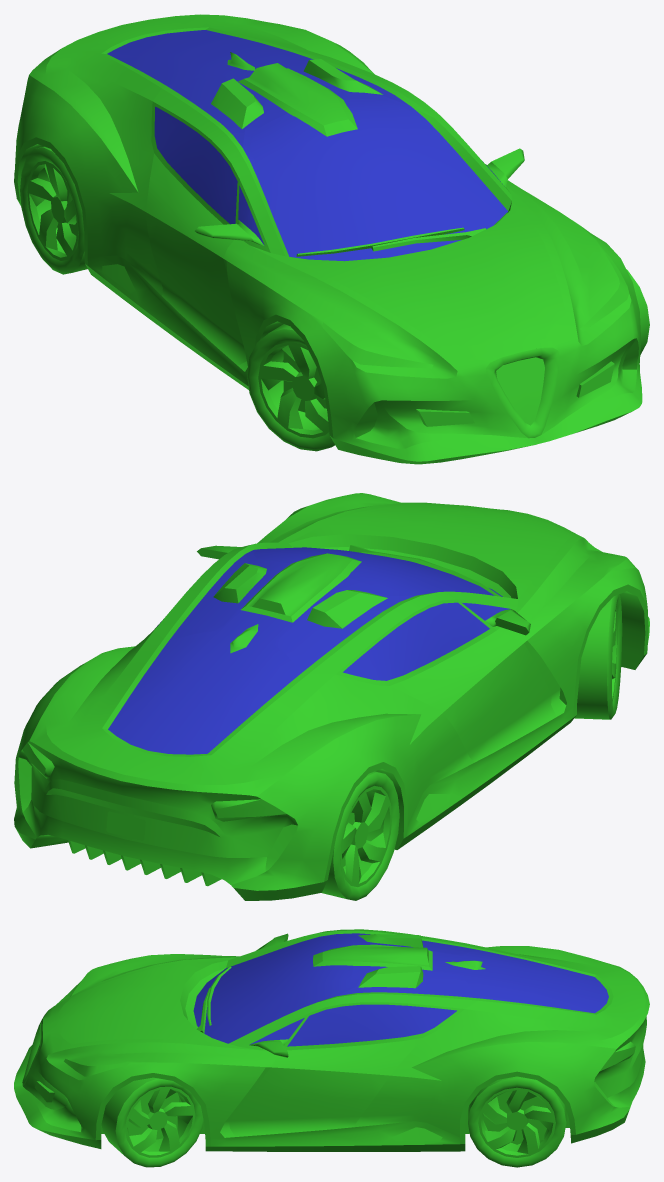
The model's file is ZOC_POL1.obj.
The picture shows the model from 3 angles, top to bottom: view 1: azimuth 30°, elevation 25°; view 2: azimuth 150°, elevation 25°; view 3: azimuth 270°, elevation 25°; orthographic projection. The views are drawn at different scales.
Visible parts, largest first — view 1: ZOC_POL1_BASE, ZOC_POL1_STEKLO, ZOC_POL1_MIGAL, ZOC_POL1_WFR, ZOC_POL1_WBR; view 2: ZOC_POL1_BASE, ZOC_POL1_STEKLO, ZOC_POL1_MIGAL, ZOC_POL1_WBR, ZOC_POL1_WFR; view 3: ZOC_POL1_BASE, ZOC_POL1_STEKLO, ZOC_POL1_WBL, ZOC_POL1_WFL, ZOC_POL1_MIGAL.
Boxes of the visible parts, <box> form: ZOC_POL1_BASE: <box>14,14,642,464</box>; ZOC_POL1_STEKLO: <box>107,30,507,261</box>; ZOC_POL1_MIGAL: <box>211,59,614,426</box>; ZOC_POL1_WFR: <box>247,324,334,451</box>; ZOC_POL1_WBR: <box>20,146,87,274</box>; ZOC_POL1_BASE: <box>14,493,649,900</box>; ZOC_POL1_STEKLO: <box>108,547,510,754</box>; ZOC_POL1_MIGAL: <box>213,553,387,628</box>; ZOC_POL1_WBR: <box>322,771,399,900</box>; ZOC_POL1_WFR: <box>574,594,622,719</box>; ZOC_POL1_BASE: <box>14,929,649,1151</box>; ZOC_POL1_STEKLO: <box>193,933,608,1046</box>; ZOC_POL1_WBL: <box>468,1076,566,1167</box>; ZOC_POL1_WFL: <box>101,1077,203,1167</box>; ZOC_POL1_MIGAL: <box>34,934,432,1102</box>.
Size of the model in its own units: 94.13 by 53.4 by 193.
